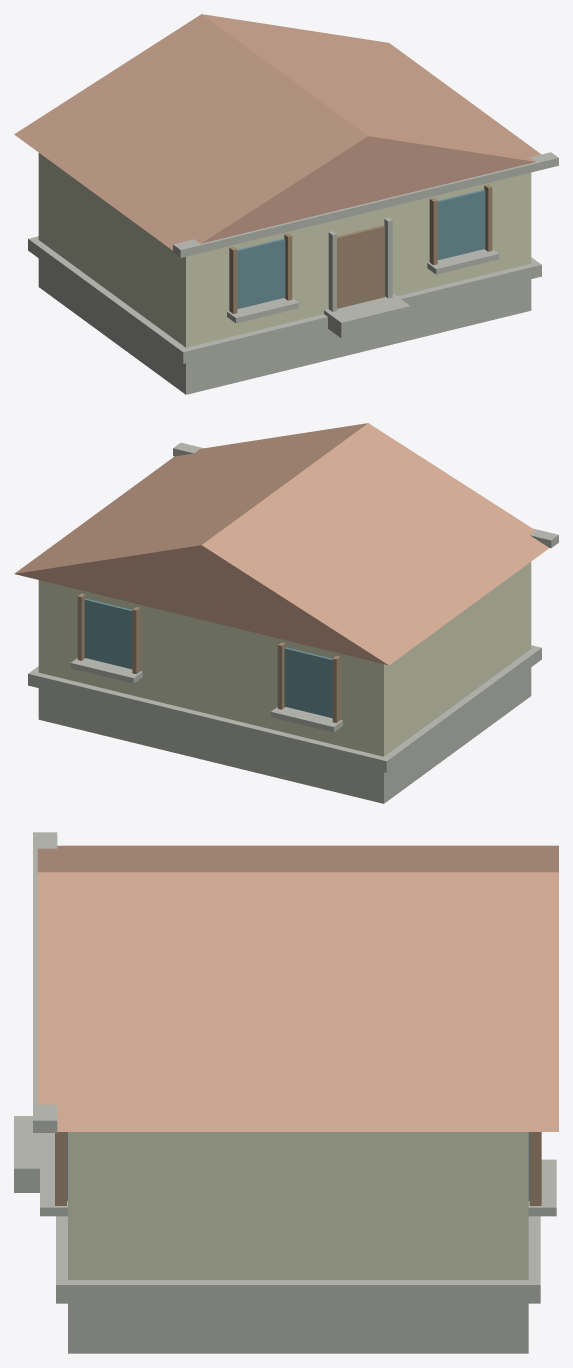
The model's file is house-3.glb.
The picture shows the model from 3 angles, top to bottom: view 1: azimuth 30°, elevation 25°; view 2: azimuth 150°, elevation 25°; view 3: azimuth 270°, elevation 25°; orthographic projection. The views are drawn at different scales.
Size of the model in its own units: 5.04 by 2.85 by 4.02.
